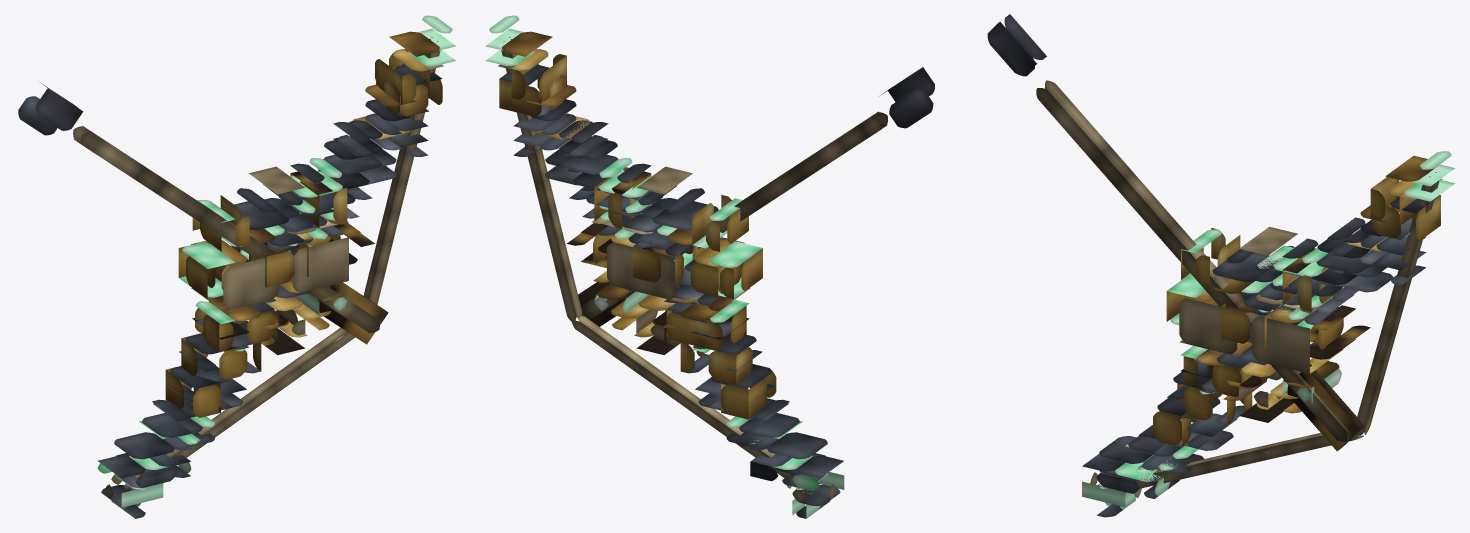
Rendered from brass_recurve_pulling_2.obj.
The picture shows the model from 3 angles, left to right: view 1: azimuth 30°, elevation 25°; view 2: azimuth 150°, elevation 25°; view 3: azimuth 330°, elevation 25°; orthographic projection. The views are drawn at different scales.
Visible parts, largest first — view 1: lit, fire; view 2: lit, fire; view 3: lit, fire.
Part boxes in pixels (x1,y1,x2,y2): lit: (18,15,455,518); fire: (231,242,388,344); lit: (485,15,934,518); fire: (578,241,708,326); lit: (987,14,1455,517); fire: (1221,292,1364,451).
Bounding box in the file's own units: 0.9738 × 0.9727 × 0.1375.
